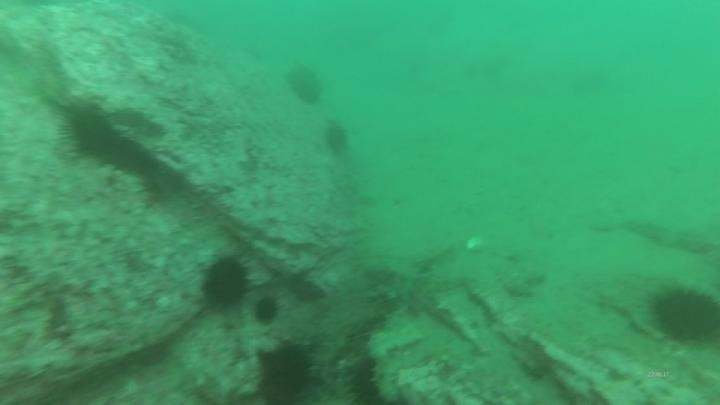echinus: (646, 281, 720, 347), (253, 340, 317, 403), (58, 101, 122, 162), (198, 253, 253, 313), (344, 354, 386, 405), (283, 62, 326, 107), (320, 119, 353, 159), (250, 293, 282, 327)
